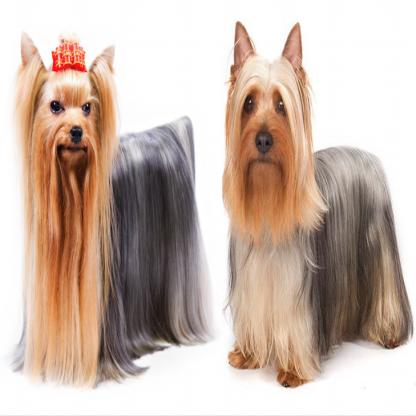Australian Silky Terrier: (221, 13, 408, 386), (9, 32, 197, 383)
